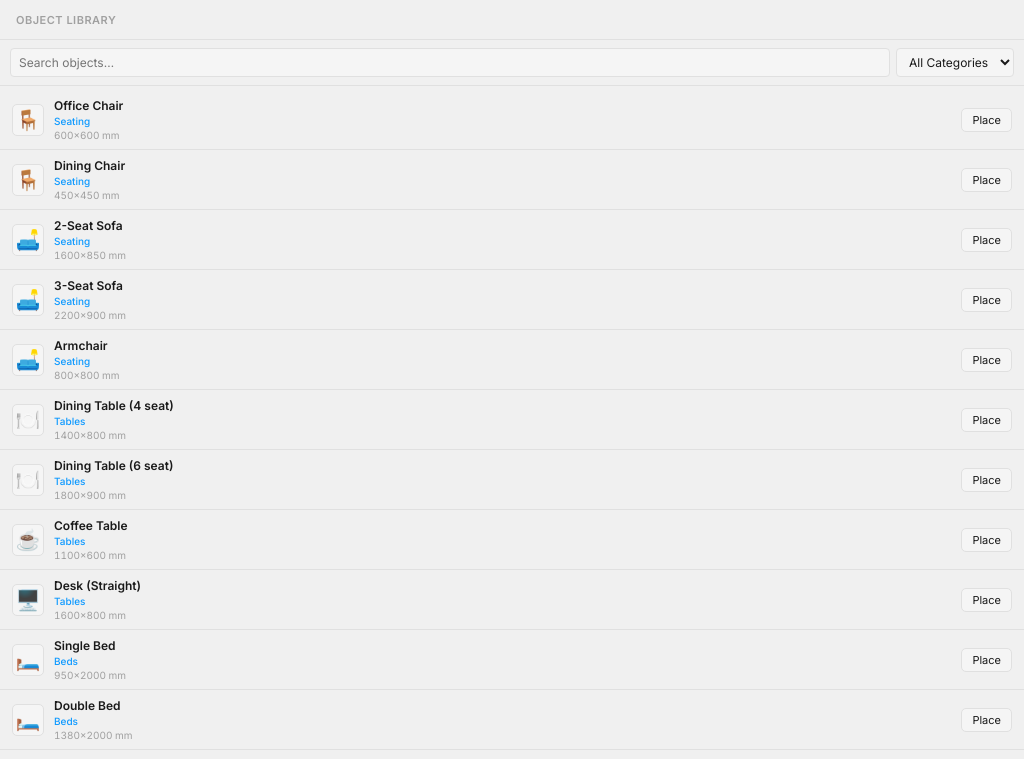
Test case: T-OBJ-001: ObjectLibraryPanel › shows empty state when search has no matches
The width and height of the screenshot is (1024, 759).
Type "xyznothing123" into the field with placeholder "Search objects…".
click(450, 62); type("xyznothing123")  # box 10,48 -> 890,77
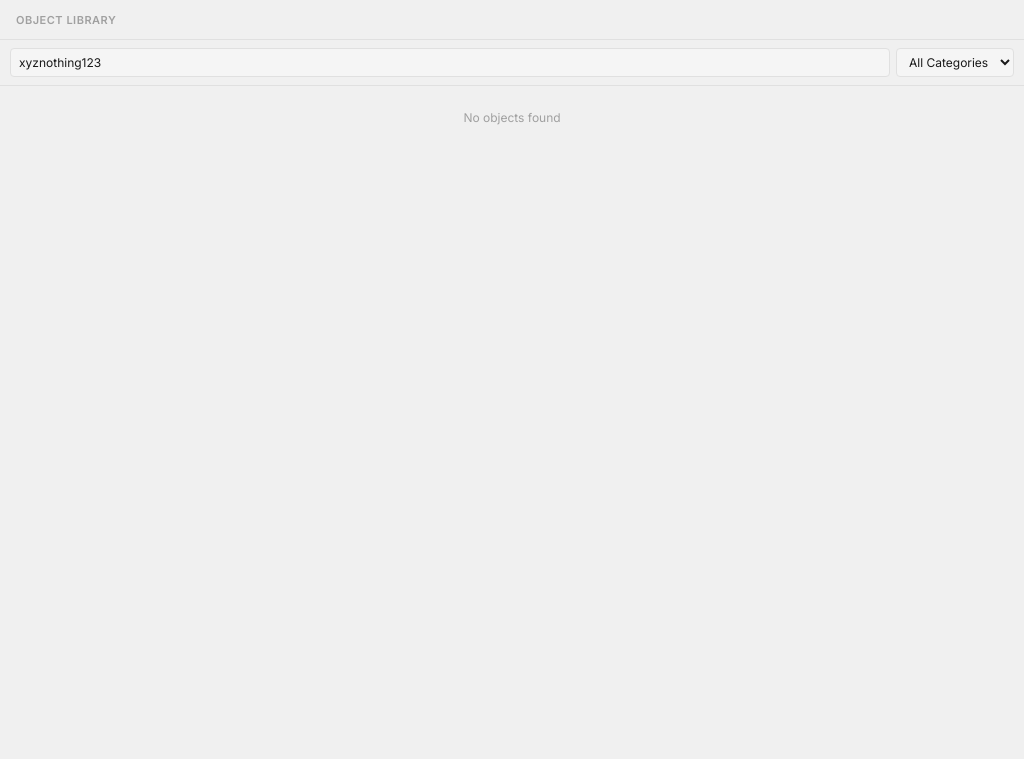
Expected: the text "No objects found" is shown, 463,110 -> 561,125
